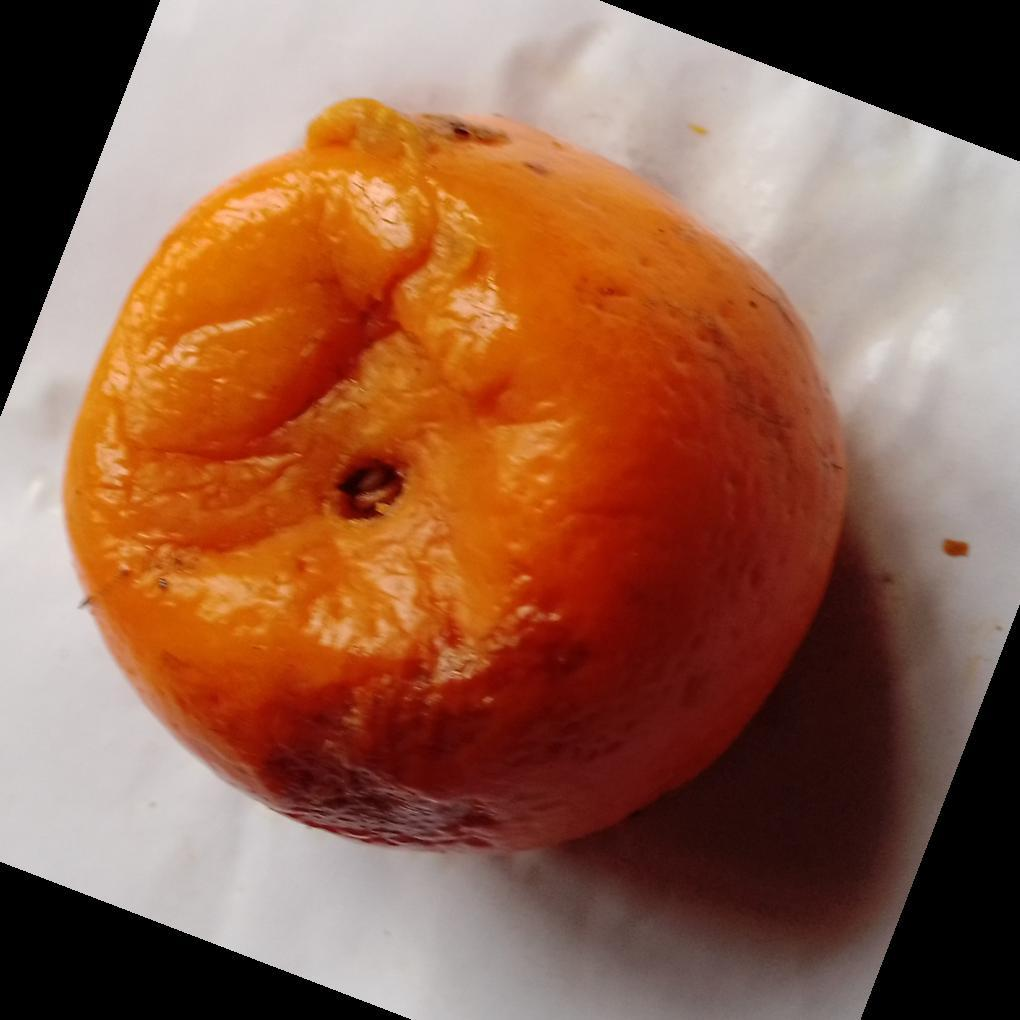FreshOrange: (59, 98, 849, 859)
